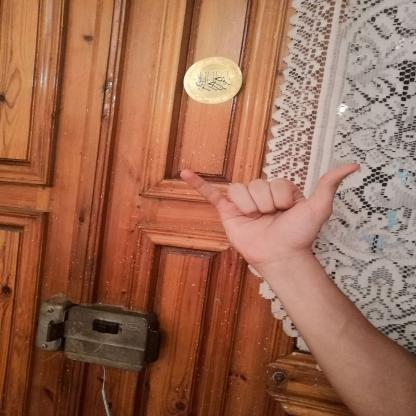YA: (165, 154, 377, 272)
